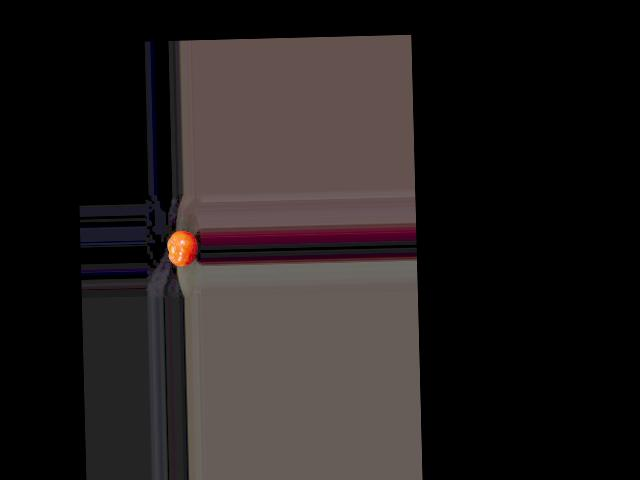tomato: (167, 229, 198, 266)
